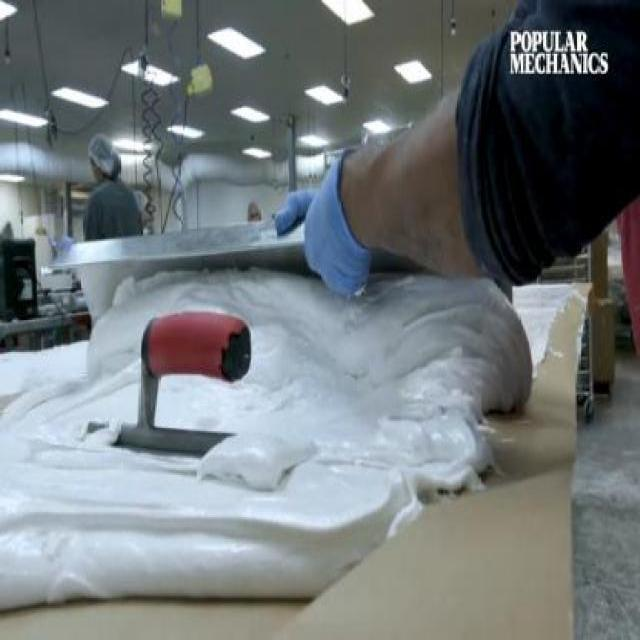gloved_hand: (300, 167, 389, 312), (269, 170, 315, 243)
